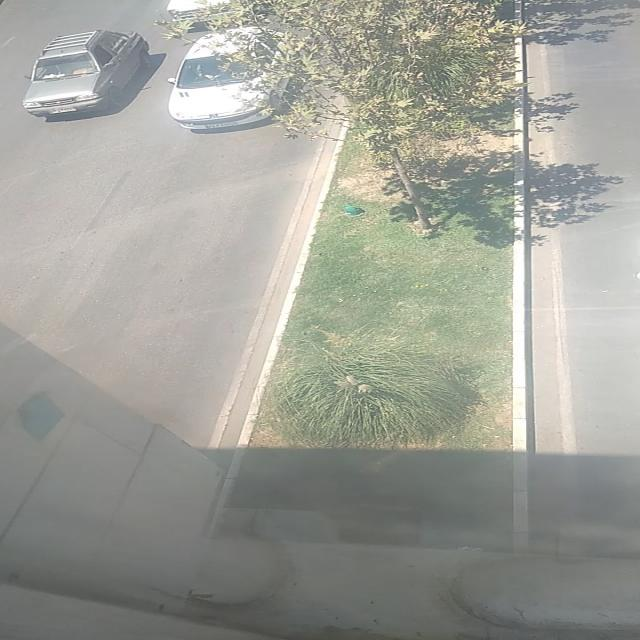car: (170, 28, 308, 132), (24, 30, 156, 121)
